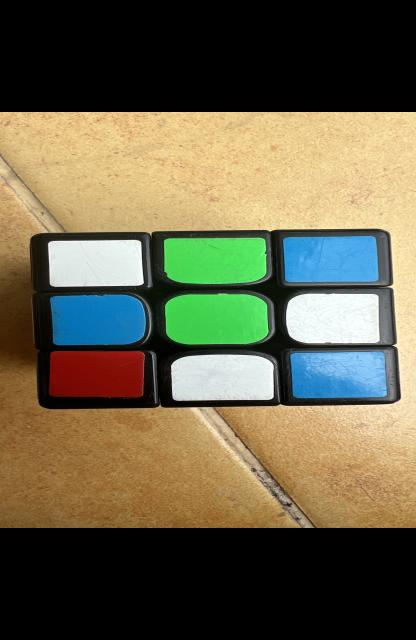Blue: (50, 295, 145, 345), (283, 236, 378, 283), (290, 352, 386, 398)
Green: (165, 294, 268, 344), (163, 238, 266, 284)
Red: (48, 351, 145, 397)
White: (285, 293, 380, 344), (170, 354, 273, 400), (46, 240, 143, 287)
